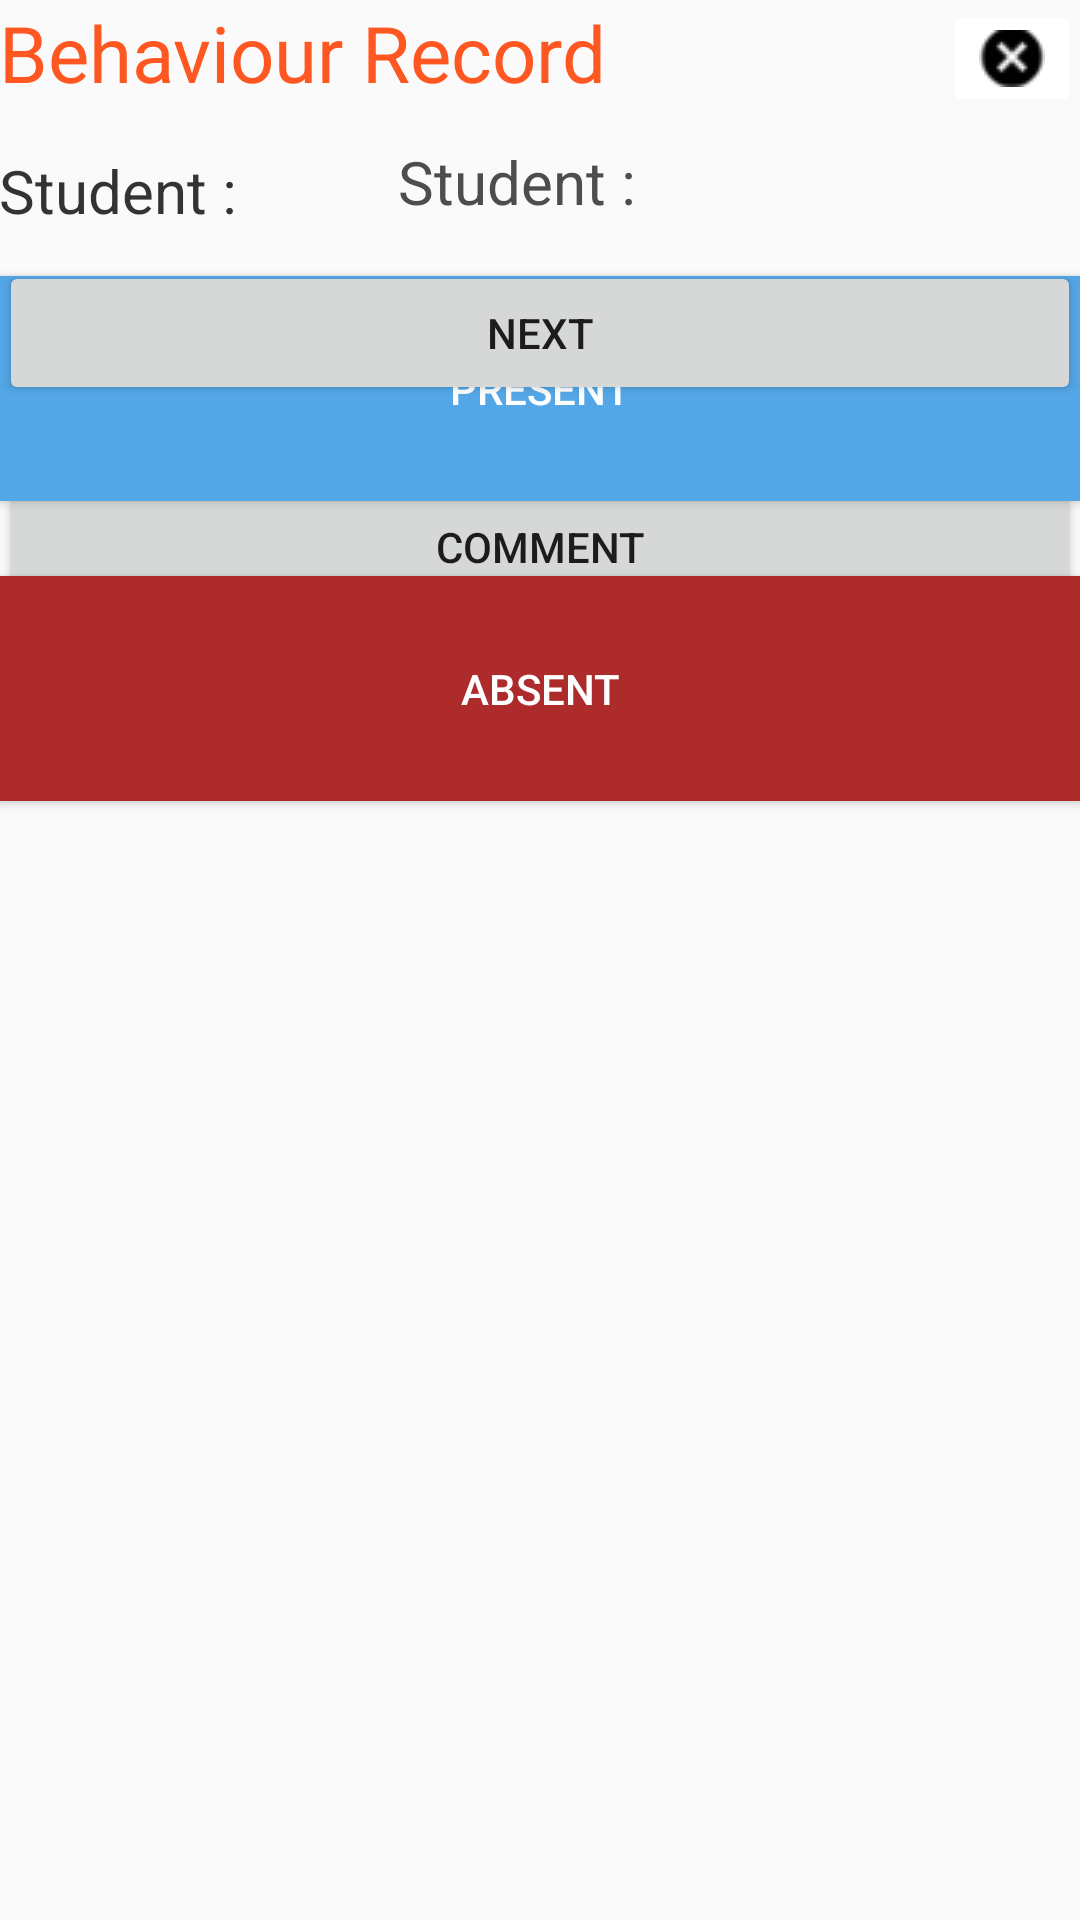

Where to tap for icons on this 1080*1920 app screen, as [x,y]:
close: [1012,58]
